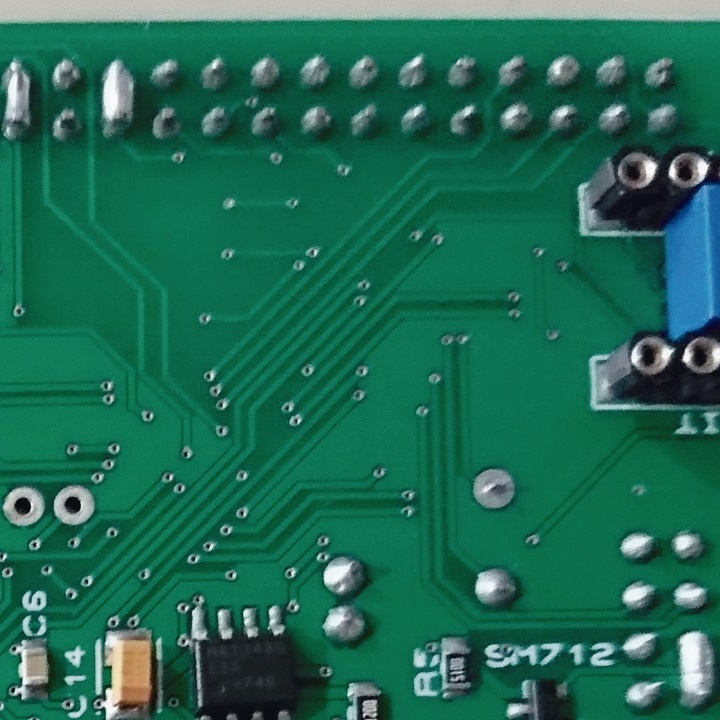F: (470, 465, 518, 518), (1, 482, 49, 531), (53, 484, 99, 529)
P: (674, 627, 720, 716), (100, 54, 140, 147), (1, 55, 39, 146)
